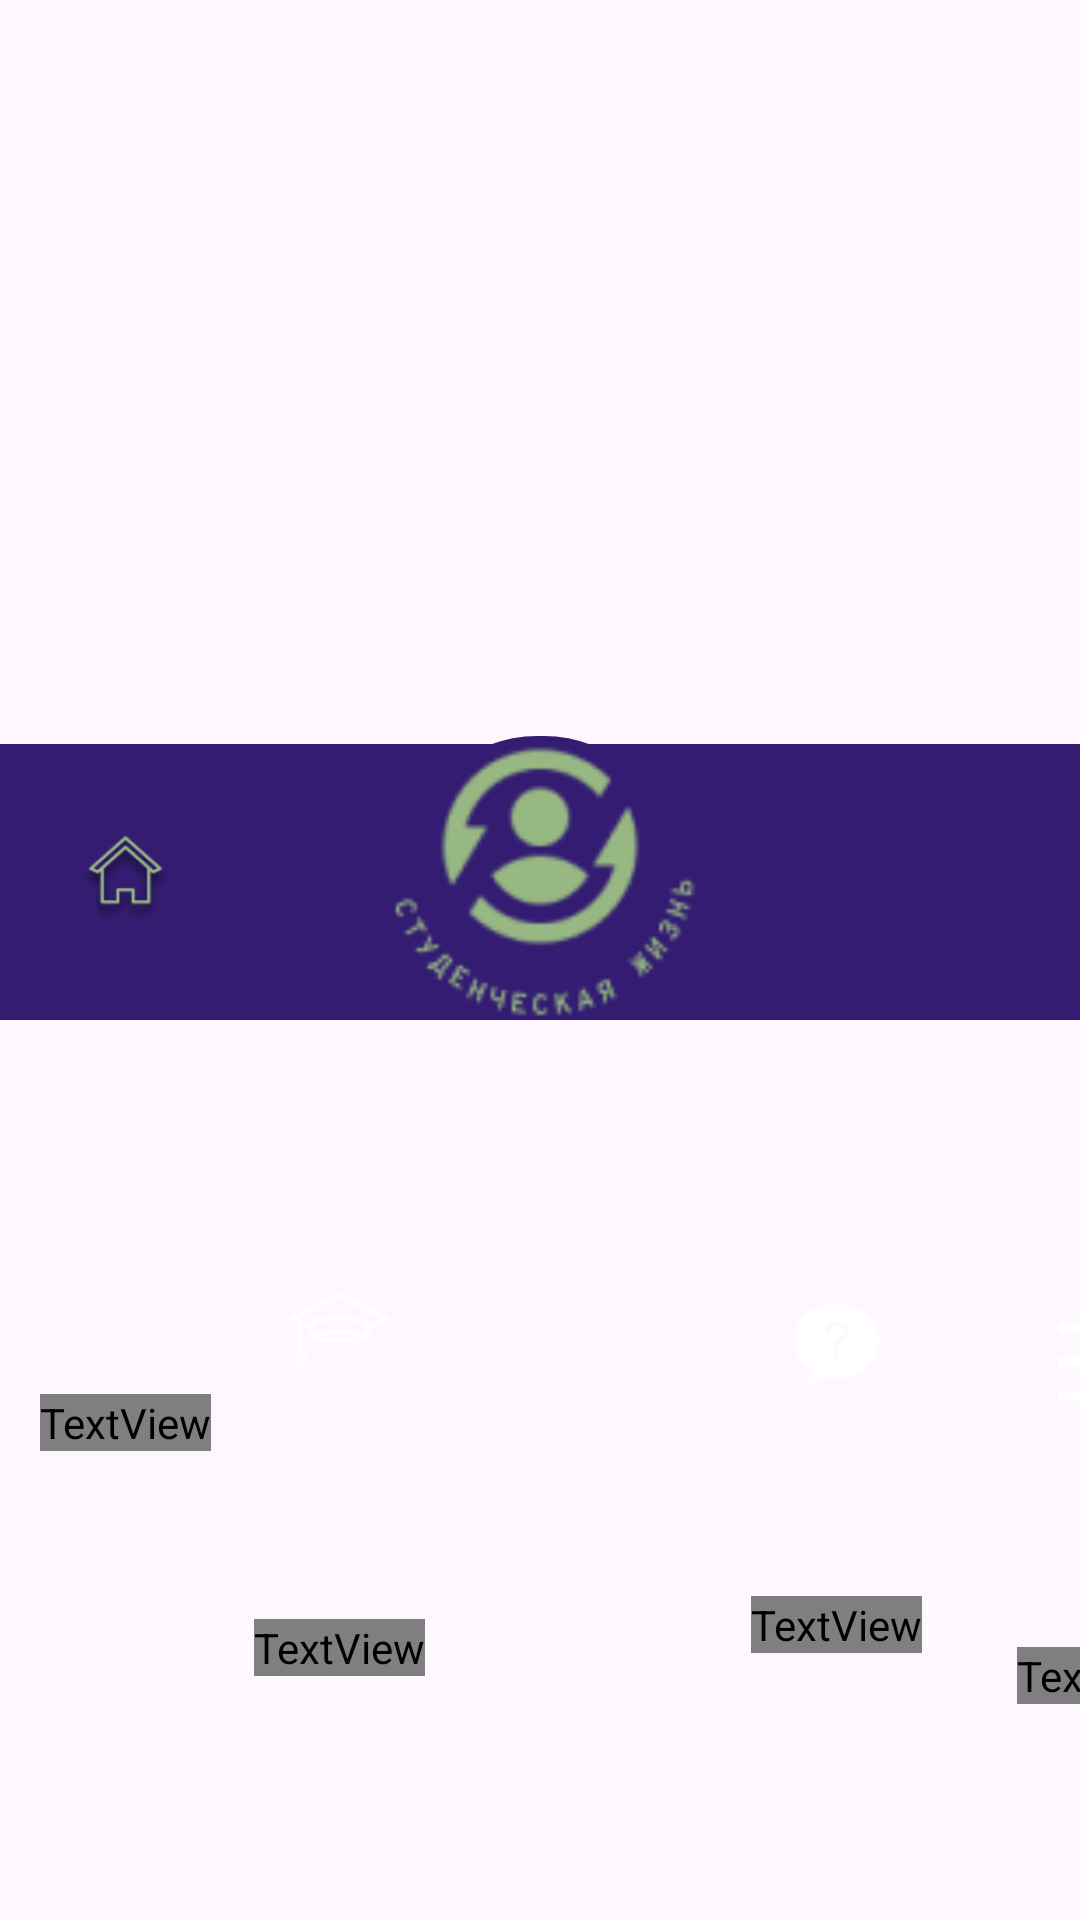

Where icons sit on this 1080px×1920px app screen, as bbox=[x1, y1, x2, y2]:
Главная: bbox=[89, 836, 162, 911]
